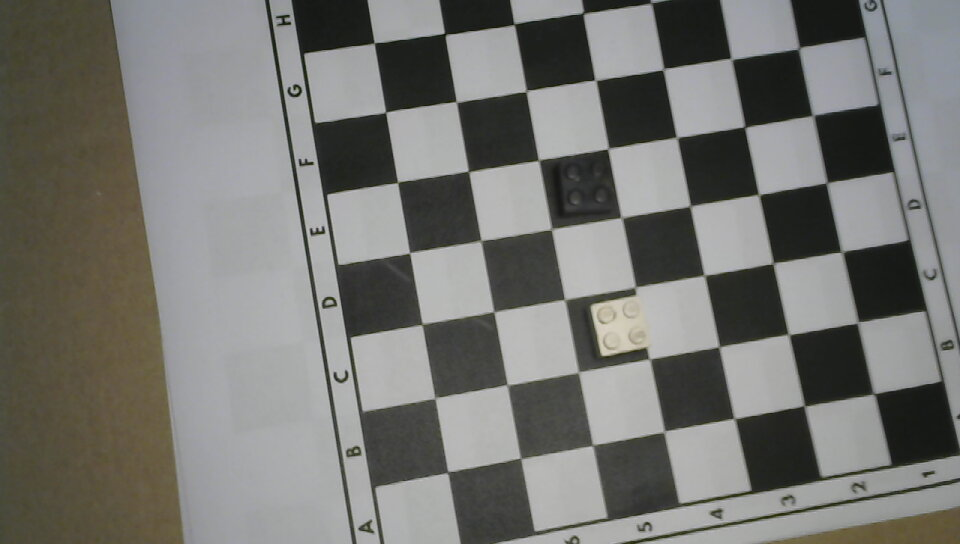bp: (552, 152, 618, 221)
